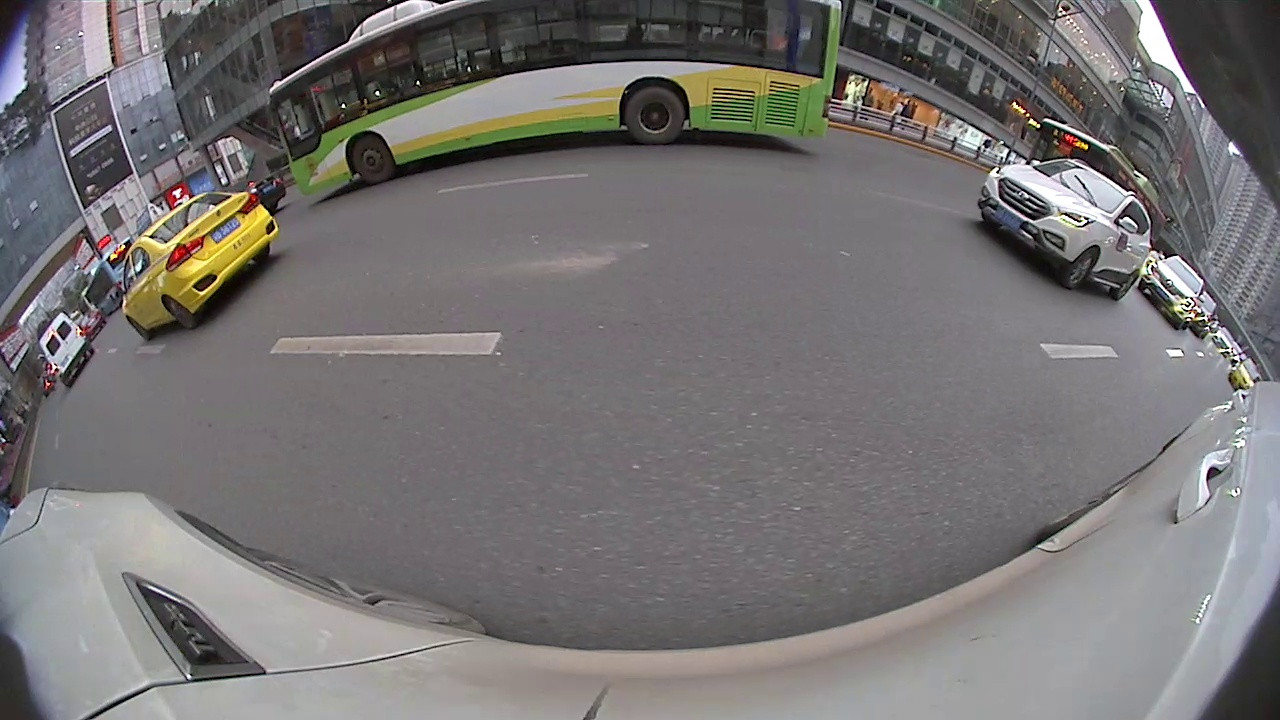bus: (261, 1, 848, 200)
car: (117, 183, 281, 344), (970, 163, 1150, 307), (1137, 254, 1212, 332), (38, 311, 97, 390)
front: (347, 134, 394, 184), (1060, 242, 1100, 292)
rear: (625, 87, 687, 146), (162, 296, 199, 331), (1113, 270, 1138, 301)
